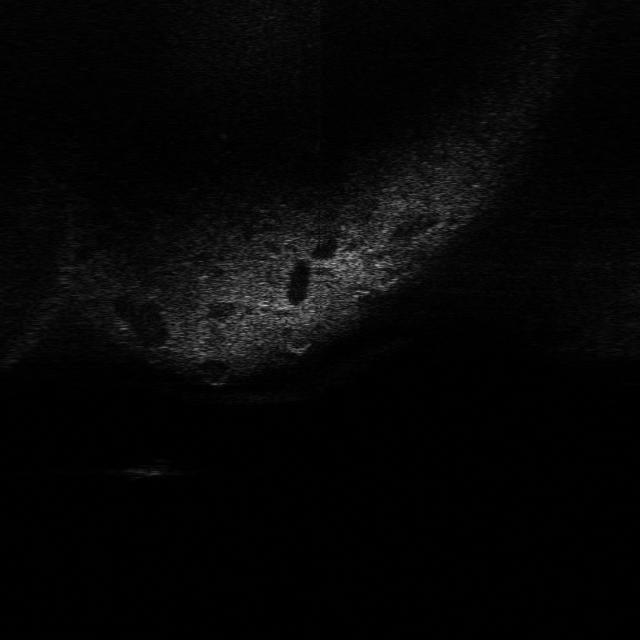ball: (280, 319, 314, 357)
cube: (117, 455, 171, 481)
